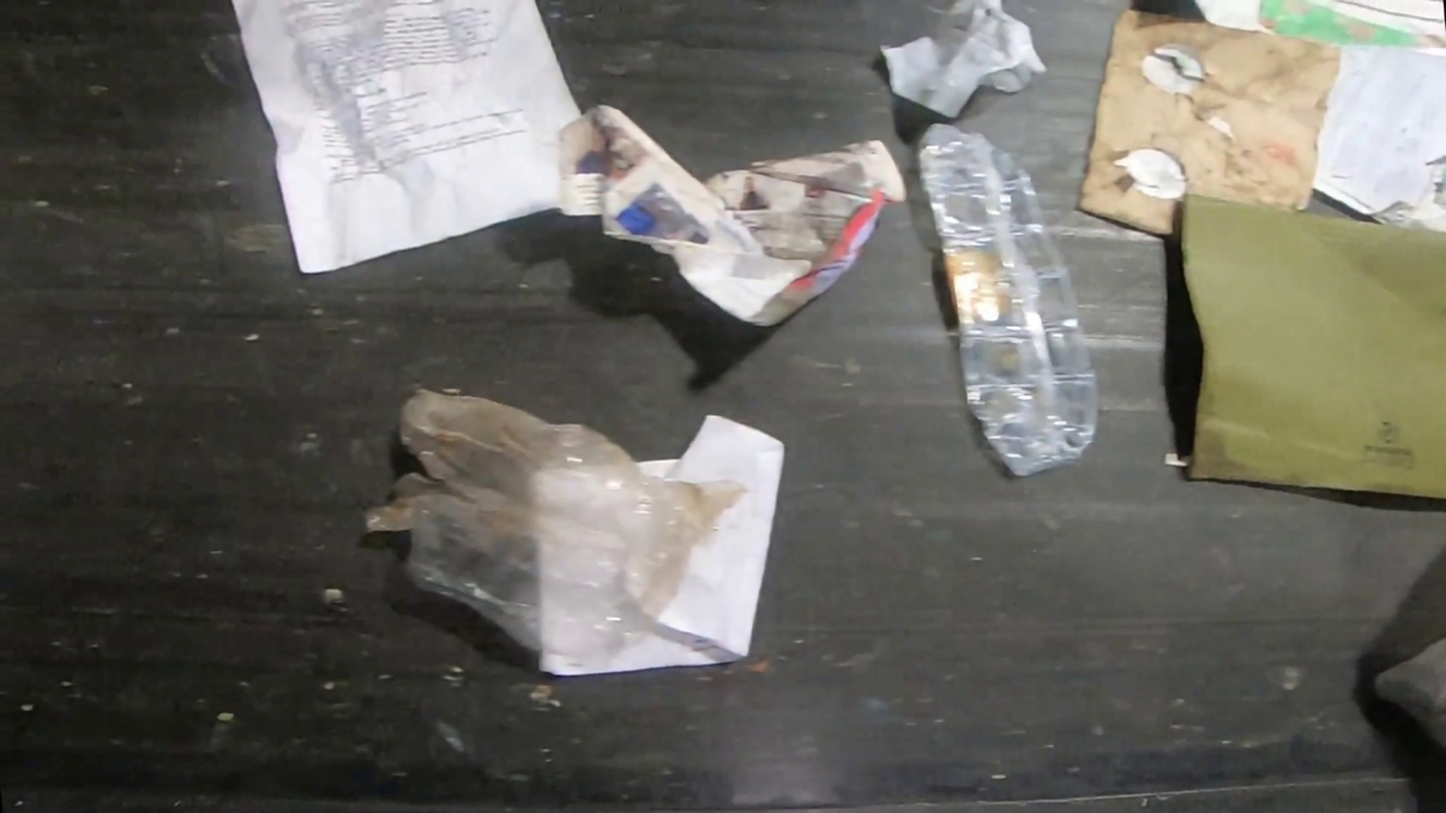cardboard: (1180, 193, 1446, 503), (1077, 9, 1346, 241)
plastic: (366, 381, 740, 663), (912, 118, 1104, 478), (1370, 639, 1445, 743)
